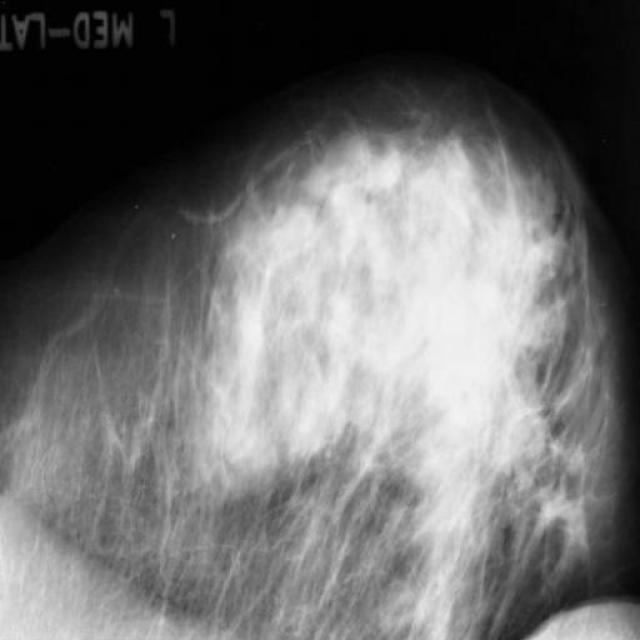cancer: (452, 276, 498, 354)
